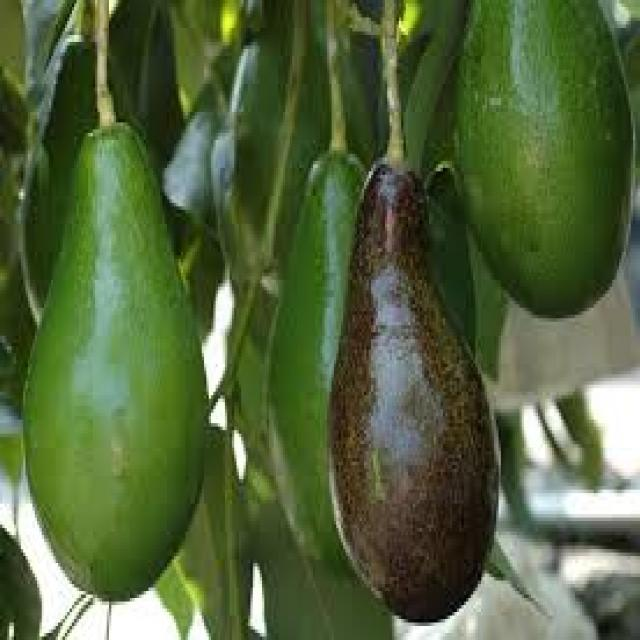avocado: (26, 117, 212, 618), (341, 159, 498, 626), (448, 0, 630, 308), (267, 139, 342, 591)
